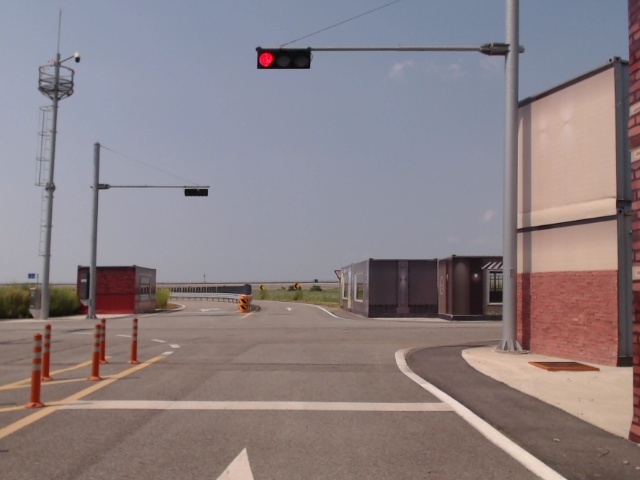red_3: (258, 51, 311, 69)
